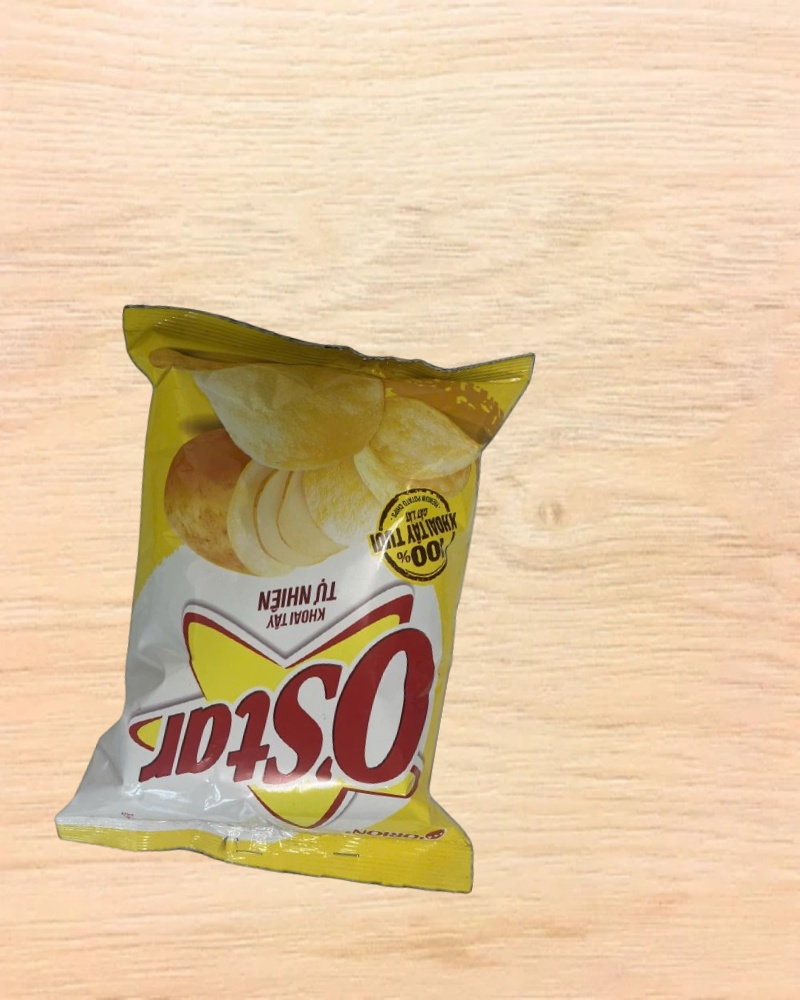Snack cua: (38, 290, 562, 905)
